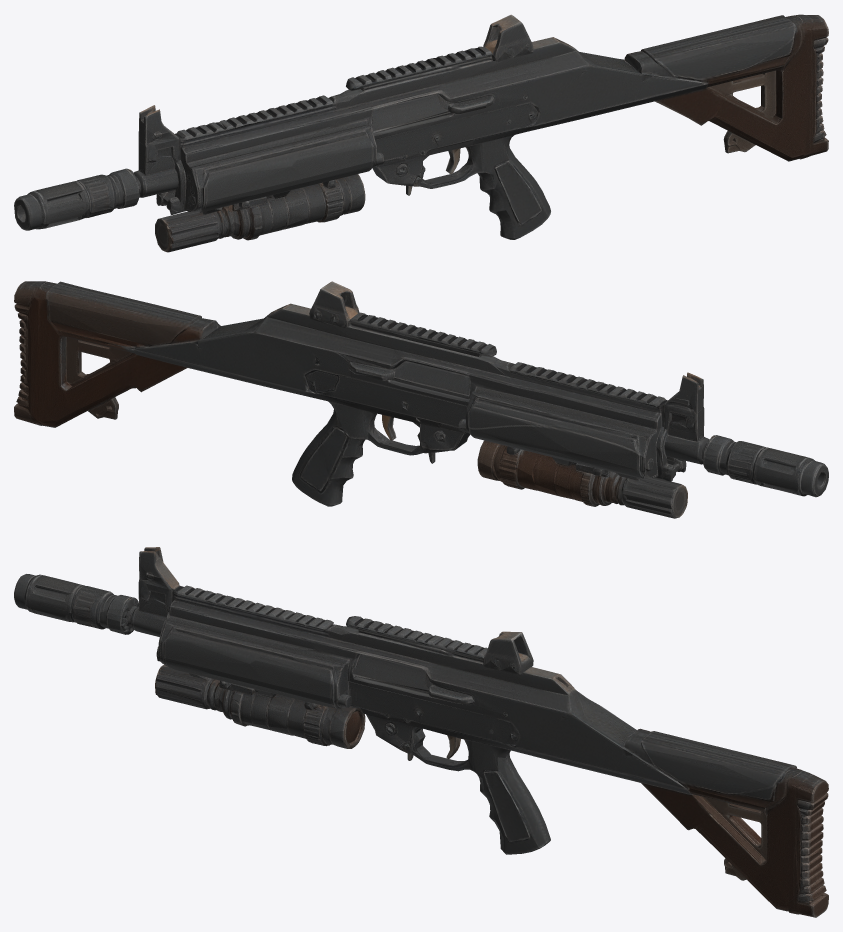
The model's file is shotgun.glb.
The picture shows the model from 3 angles, top to bottom: view 1: azimuth 30°, elevation 25°; view 2: azimuth 150°, elevation 25°; view 3: azimuth 330°, elevation 25°; orthographic projection.
Visible parts, largest first — view 1: mesh_node; view 2: mesh_node; view 3: mesh_node.
Boxes of the visible parts, <box> form: mesh_node: <box>14,14,828,252</box>; mesh_node: <box>14,281,828,518</box>; mesh_node: <box>14,547,828,917</box>.
Size of the model in its own units: 1.9 by 0.4952 by 0.1735.
1 material, 1 textured.
